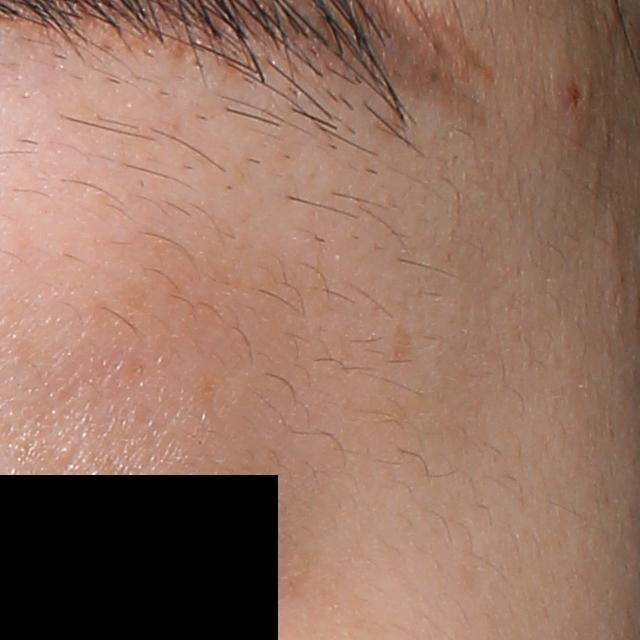melasma: (388, 322, 417, 361)
